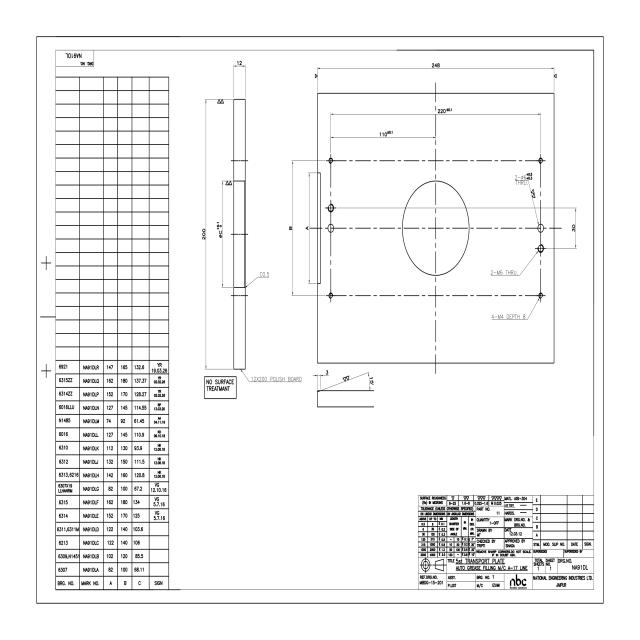dimension: (249, 375, 303, 383), (491, 312, 525, 321), (514, 172, 533, 186), (489, 269, 518, 277), (379, 128, 396, 138), (436, 106, 454, 115), (215, 220, 223, 239), (368, 375, 377, 387), (259, 270, 270, 278), (201, 227, 207, 241), (431, 61, 440, 70), (571, 223, 577, 233), (236, 59, 243, 67), (324, 368, 330, 376), (305, 224, 309, 232), (289, 225, 293, 232)
